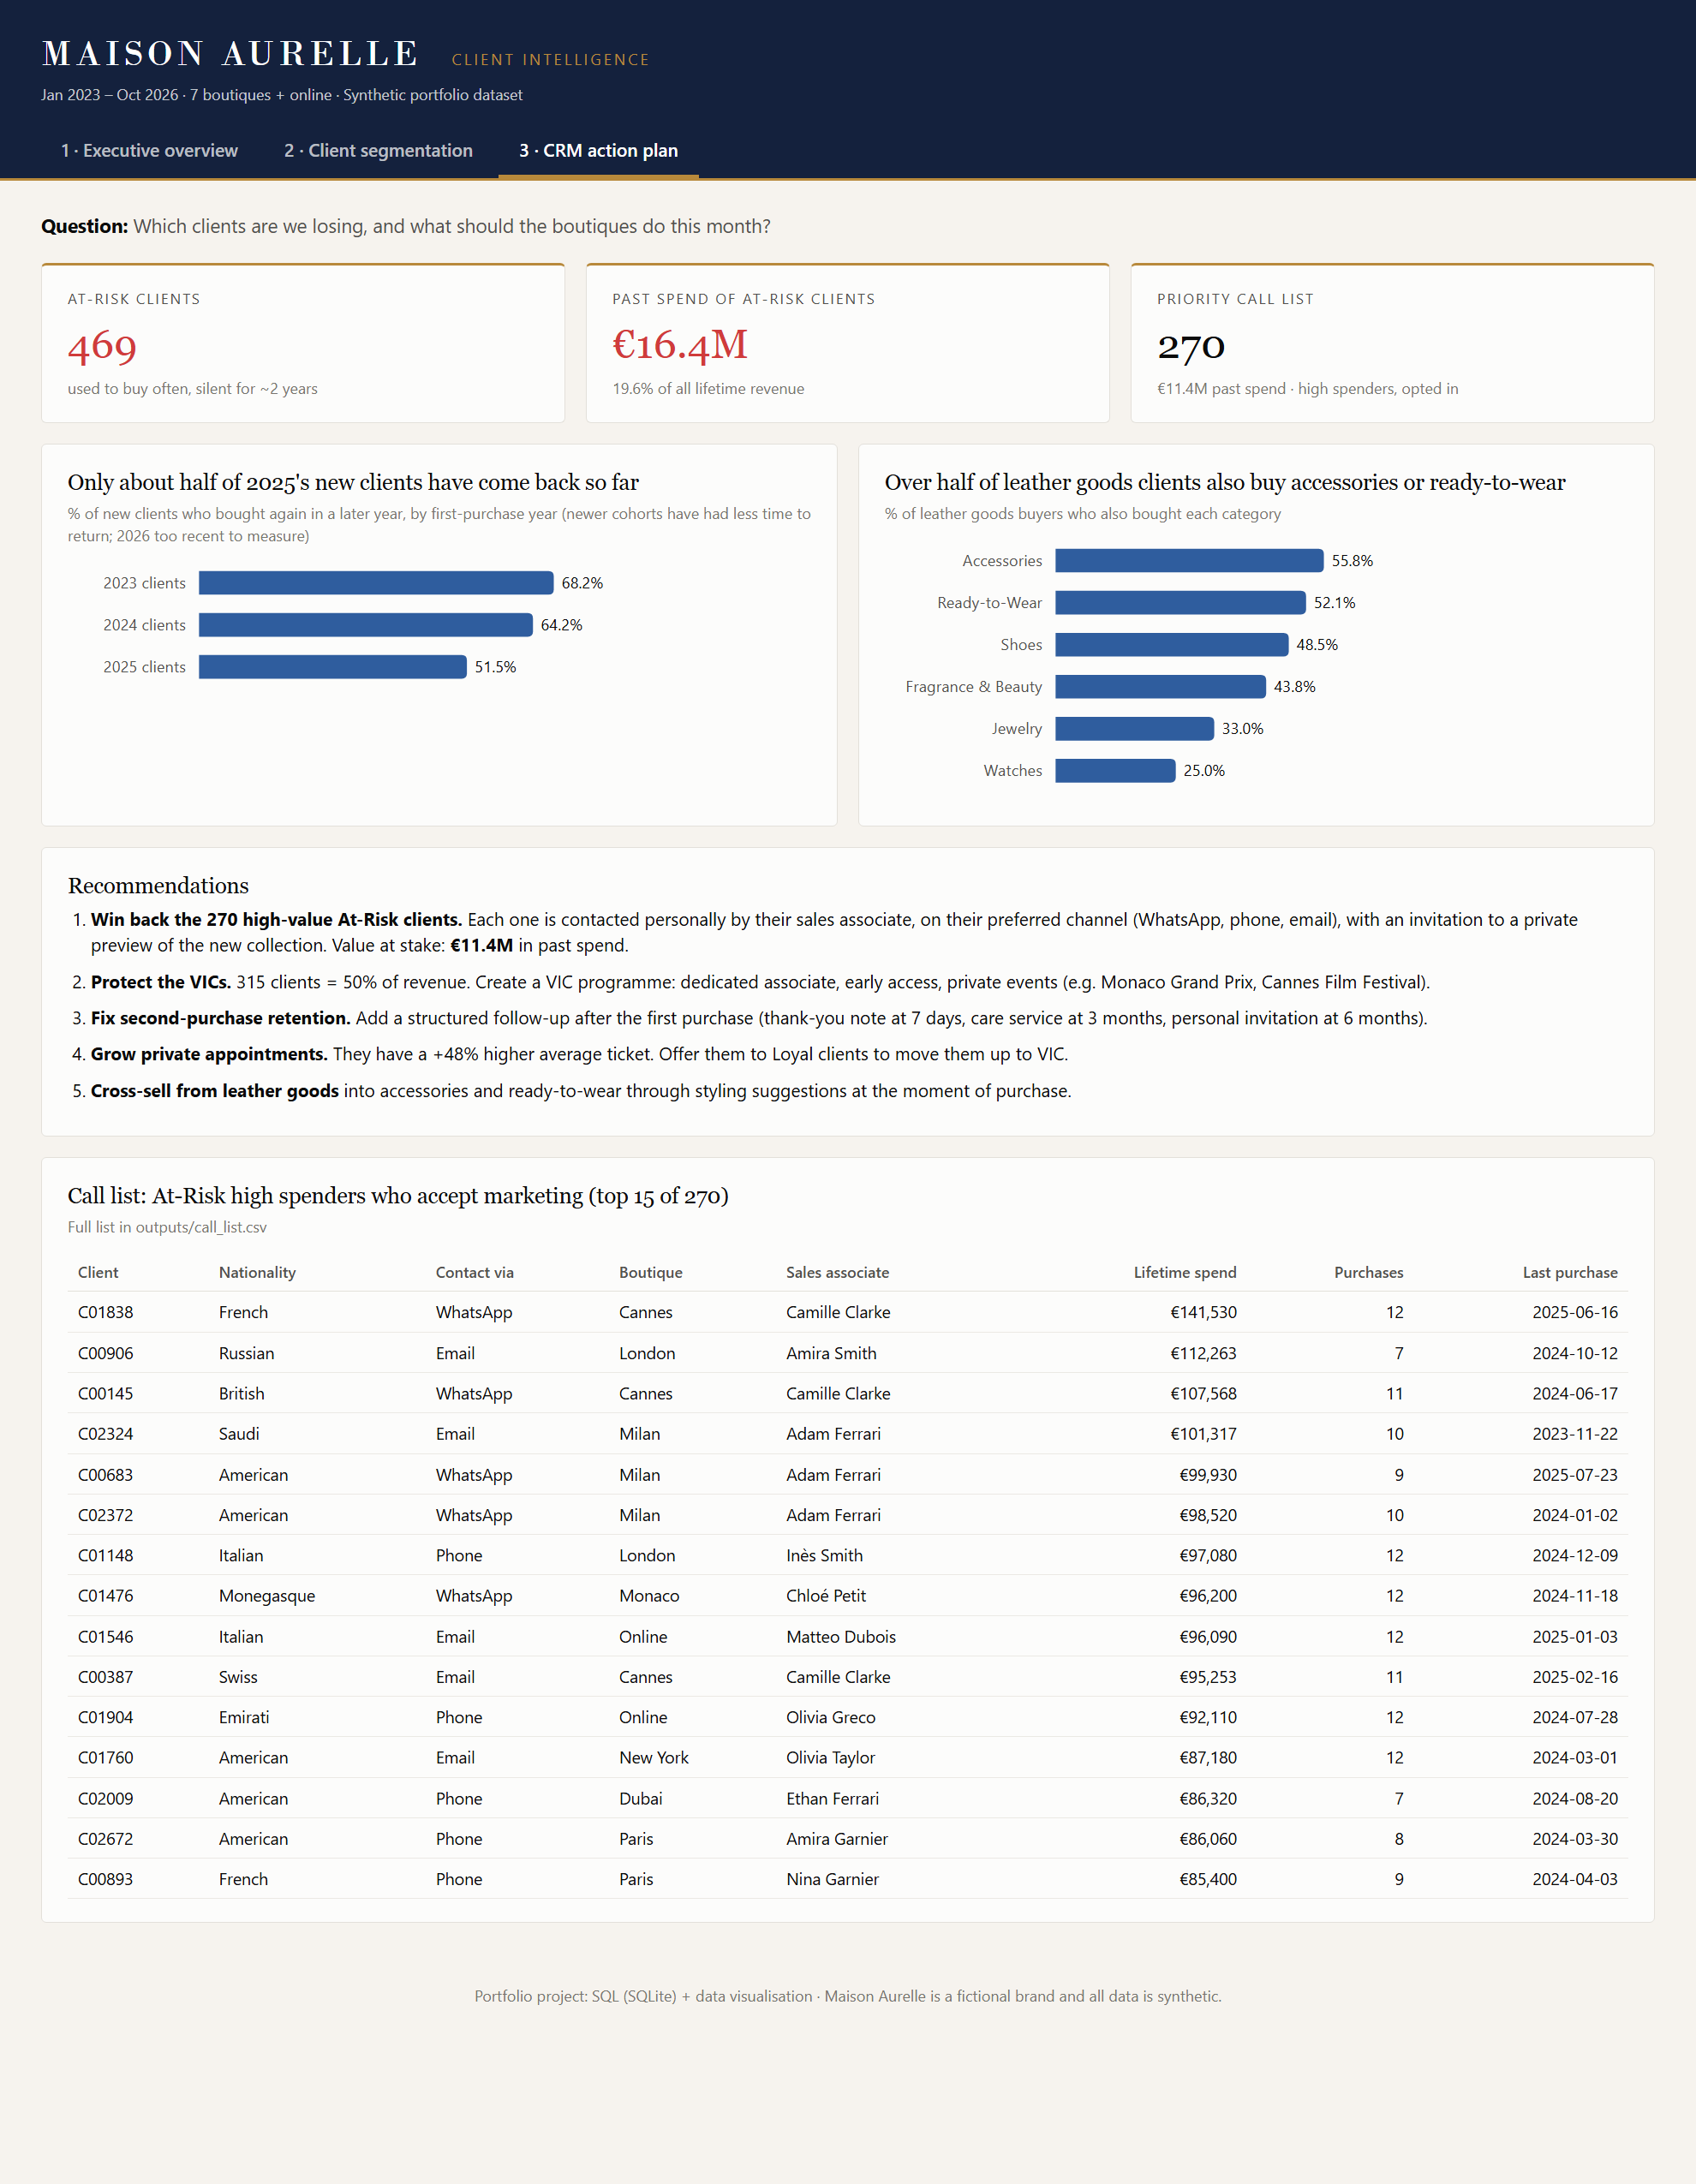

This screenshot's page, from the dashboard's own definition file:
{"tool":"powerbi","page":{"name":"CRM action plan","canvas":[1280,720],"ordinal":2},"visuals":[{"type":"textbox","box":[0,0,1280,64],"z":20000},{"type":"card","title":"At-Risk clients","fields":{"Values":["rfm.At Risk Clients"]},"box":[20,80,300,100],"z":21000},{"type":"card","title":"Past spend of At-Risk clients","fields":{"Values":["rfm.At Risk Past Spend"]},"box":[333,80,300,100],"z":22000},{"type":"card","title":"Priority call list","fields":{"Values":["call_list.Call List Clients"]},"box":[646,80,300,100],"z":23000},{"type":"card","title":"Past spend of call list","fields":{"Values":["call_list.Call List Value"]},"box":[959,80,301,100],"z":24000},{"type":"clusteredBarChart","title":"Half of 2025 new clients came back","fields":{"Category":["retention.first_year"],"Y":["retention.Retention Rate"]},"box":[20,195,400,250],"z":25000},{"type":"clusteredBarChart","title":"What leather goods clients also buy","fields":{"Category":["cross_sell.also_bought"],"Y":["cross_sell.Share of Leather Buyers"]},"box":[432,195,400,250],"z":26000},{"type":"textbox","box":[844,195,416,250],"z":27000},{"type":"tableEx","title":"Call list: At-Risk high spenders who accept marketing","fields":{"Values":["call_list.client_id","call_list.nationality","call_list.preferred_contact","call_list.home_boutique","call_list.last_associate","call_list.monetary_eur","call_list.frequency","call_list.last_purchase"]},"box":[20,460,1240,245],"z":28000}]}

Visuals, with their boxes on the page's 1280x720 design canvas (x1, y1, x2, y2). These are canvas units, not pixel positions in the 1696x2184 screenshot, which may show the page scaled, cropped or inside an application window:
textbox: box=[0, 0, 1280, 64]
"At-Risk clients" card: box=[20, 80, 320, 180]
"Past spend of At-Risk clients" card: box=[333, 80, 633, 180]
"Priority call list" card: box=[646, 80, 946, 180]
"Past spend of call list" card: box=[959, 80, 1260, 180]
"Half of 2025 new clients came back" clusteredBarChart: box=[20, 195, 420, 445]
"What leather goods clients also buy" clusteredBarChart: box=[432, 195, 832, 445]
textbox: box=[844, 195, 1260, 445]
"Call list: At-Risk high spenders who accept marketing" tableEx: box=[20, 460, 1260, 705]
